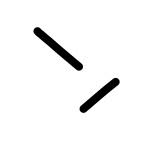i: (77, 75, 124, 117)
